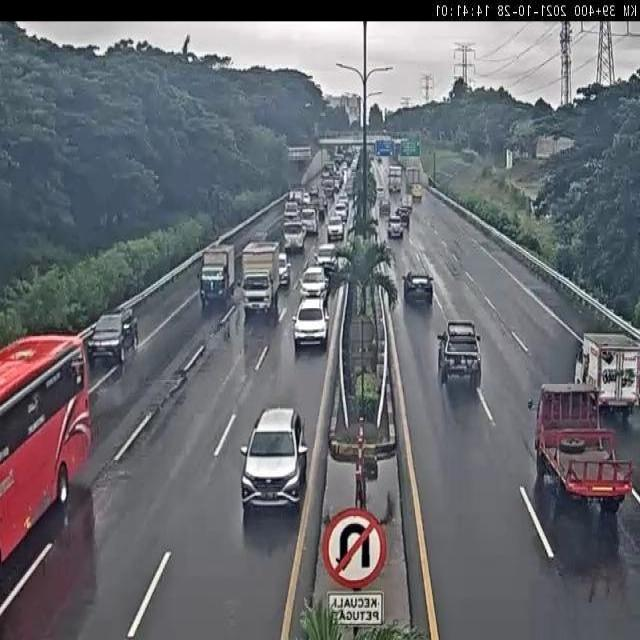Bus: (1, 335, 92, 580)
Car: (240, 406, 309, 513), (87, 308, 138, 368), (292, 297, 329, 350), (402, 270, 433, 305), (299, 264, 329, 300), (315, 243, 338, 275), (327, 214, 344, 242), (388, 216, 404, 239), (283, 203, 299, 222), (336, 202, 348, 222), (302, 192, 311, 205)
Truck: (533, 391, 634, 513), (574, 332, 640, 416), (239, 240, 283, 325), (438, 323, 481, 389), (198, 245, 235, 312), (282, 222, 306, 254), (300, 206, 318, 236)
